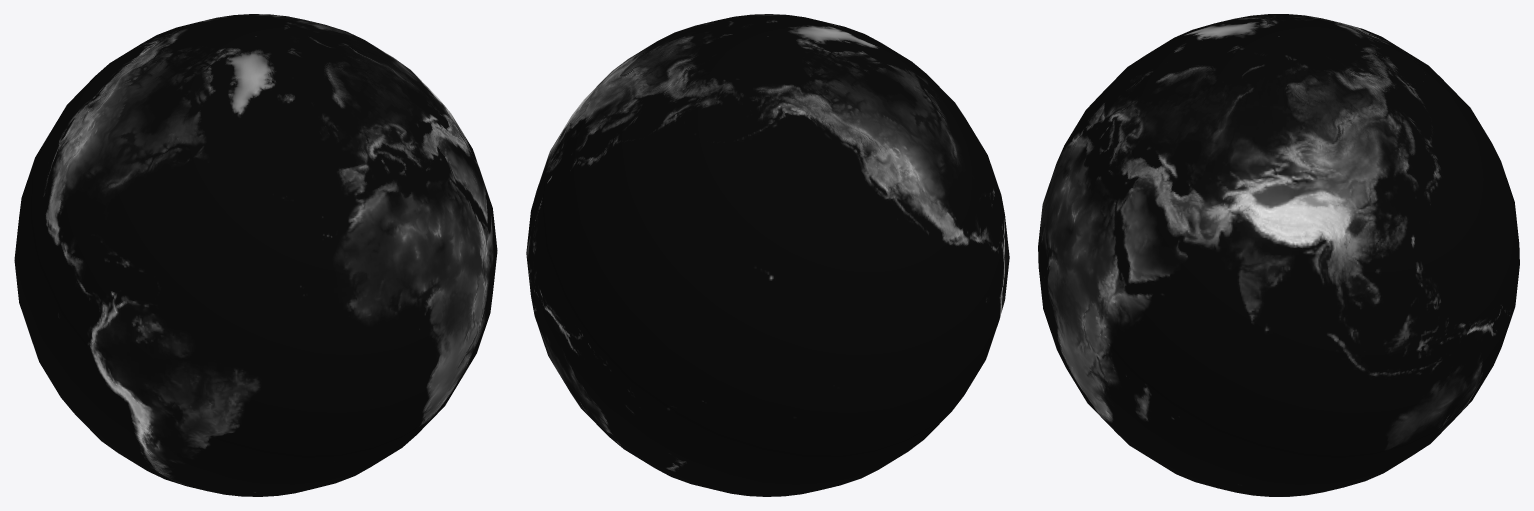
The model's file is earth.glb.
3 views of the same model, side by side, from view 1: azimuth 30°, elevation 25°; view 2: azimuth 150°, elevation 25°; view 3: azimuth 270°, elevation 25° (orthographic).
Parts seen in each view (by area): view 1: animated earth; view 2: animated earth; view 3: animated earth.
Part boxes in pixels (box(x1,y1,x2,y2)): animated earth: box(14, 14, 497, 496); animated earth: box(526, 14, 1009, 496); animated earth: box(1038, 14, 1519, 496).
Bounding box in the file's own units: 9.96 × 10 × 9.96.
1 material, 1 textured.
